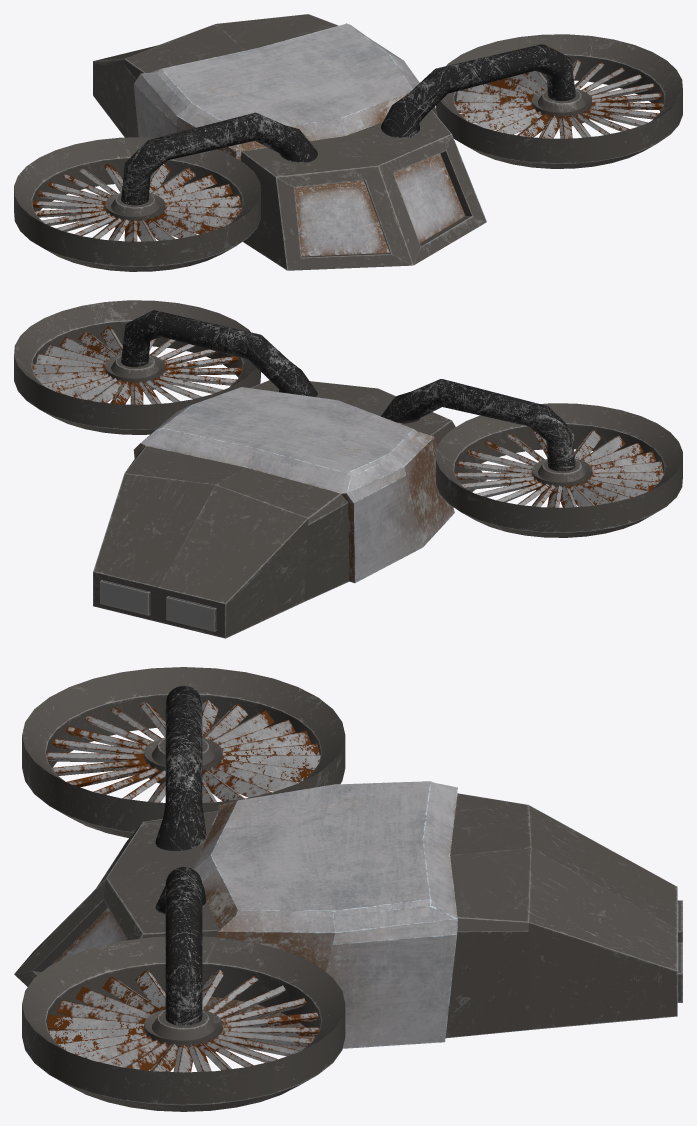
Rendered from Drone.fbx.
3 views of the same model, one above another, from view 1: azimuth 30°, elevation 25°; view 2: azimuth 150°, elevation 25°; view 3: azimuth 270°, elevation 25° (orthographic). The views are drawn at different scales.
Visible parts, largest first — view 1: FanBody, Body, BodyShell, FanBlades, Attachment, BodyBackGlass, FanCenter; view 2: Body, BodyShell, FanBody, FanBlades, Attachment, BodyFrontLights, FanCenter; view 3: Body, BodyShell, FanBody, FanBlades, Attachment, FanCenter, BodyBackGlass.
Boxes of the visible parts, bbox=[...] form: FanBody: bbox=[14, 34, 682, 271]; Body: bbox=[93, 14, 486, 270]; BodyShell: bbox=[133, 23, 419, 228]; FanBlades: bbox=[32, 59, 663, 241]; Attachment: bbox=[121, 44, 575, 205]; BodyBackGlass: bbox=[294, 153, 465, 256]; FanCenter: bbox=[105, 88, 591, 227]; Body: bbox=[93, 380, 486, 638]; BodyShell: bbox=[133, 387, 454, 583]; FanBody: bbox=[14, 300, 682, 537]; FanBlades: bbox=[32, 326, 664, 507]; Attachment: bbox=[121, 310, 575, 471]; BodyFrontLights: bbox=[100, 580, 216, 631]; FanCenter: bbox=[105, 354, 591, 490]; Body: bbox=[14, 793, 677, 1038]; BodyShell: bbox=[193, 781, 457, 1050]; FanBody: bbox=[22, 667, 345, 1111]; FanBlades: bbox=[46, 700, 320, 1072]; Attachment: bbox=[155, 686, 206, 1025]; FanCenter: bbox=[144, 737, 222, 1055]; BodyBackGlass: bbox=[51, 908, 126, 964].
Bounding box in the file's own units: 515 × 112 × 359.
